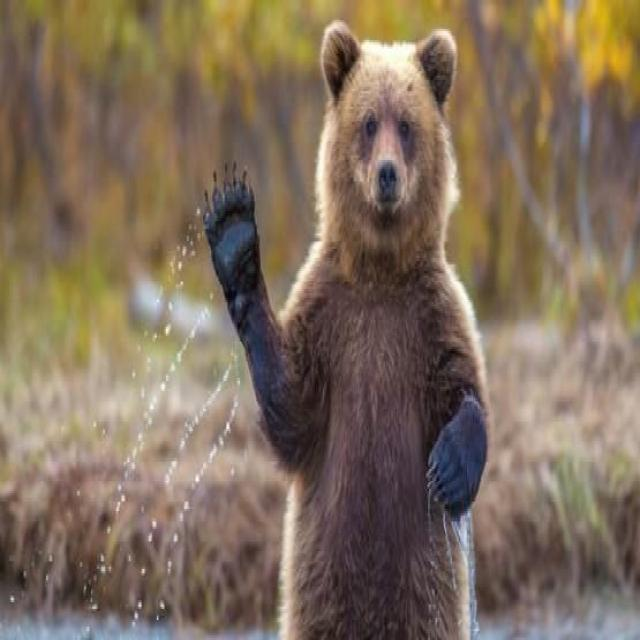Bear: (201, 20, 491, 640)
